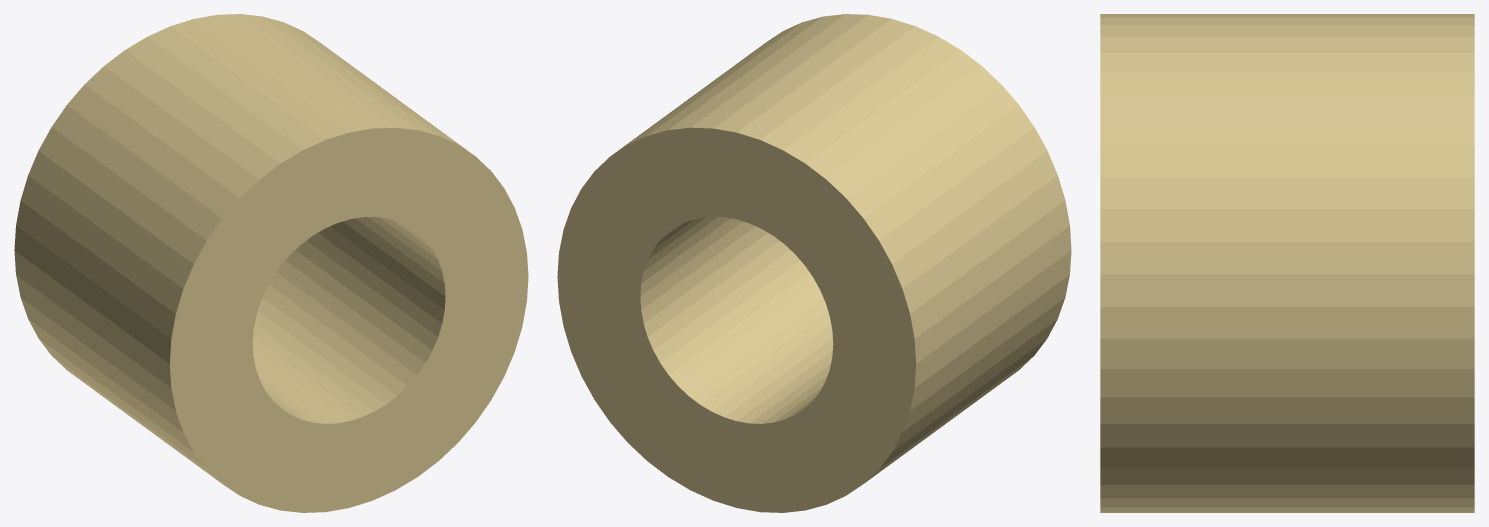
The model's file is pcb_spacer_311430640050_H3.glb.
3 renders of one model, left to right at view 1: azimuth 30°, elevation 25°; view 2: azimuth 150°, elevation 25°; view 3: azimuth 270°, elevation 25°, orthographic. The views are drawn at different scales.
Visible parts, largest first — view 1: pcb_spacer_311430640050_H3; view 2: pcb_spacer_311430640050_H3; view 3: pcb_spacer_311430640050_H3.
Boxes of the visible parts, left/top/right/bottom form: pcb_spacer_311430640050_H3: left=14, top=14, right=528, bottom=512; pcb_spacer_311430640050_H3: left=557, top=14, right=1071, bottom=512; pcb_spacer_311430640050_H3: left=1100, top=14, right=1474, bottom=512.
Bounding box in the file's own units: 8 × 8 × 6.
